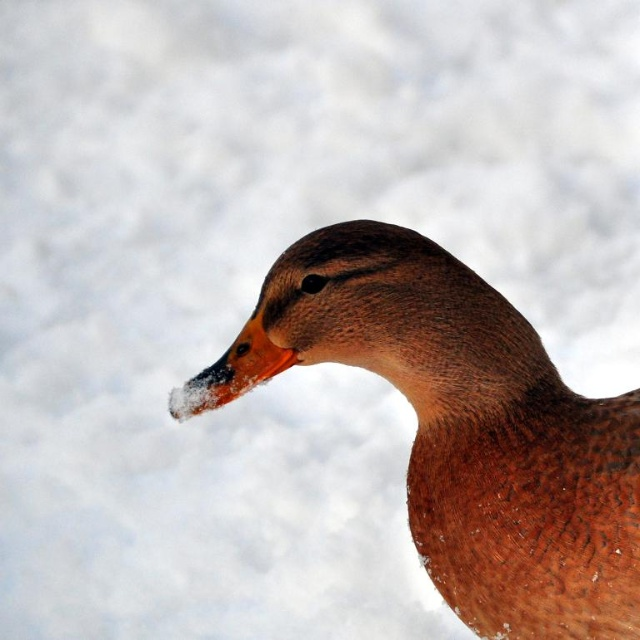Duck: (183, 216, 637, 630)
